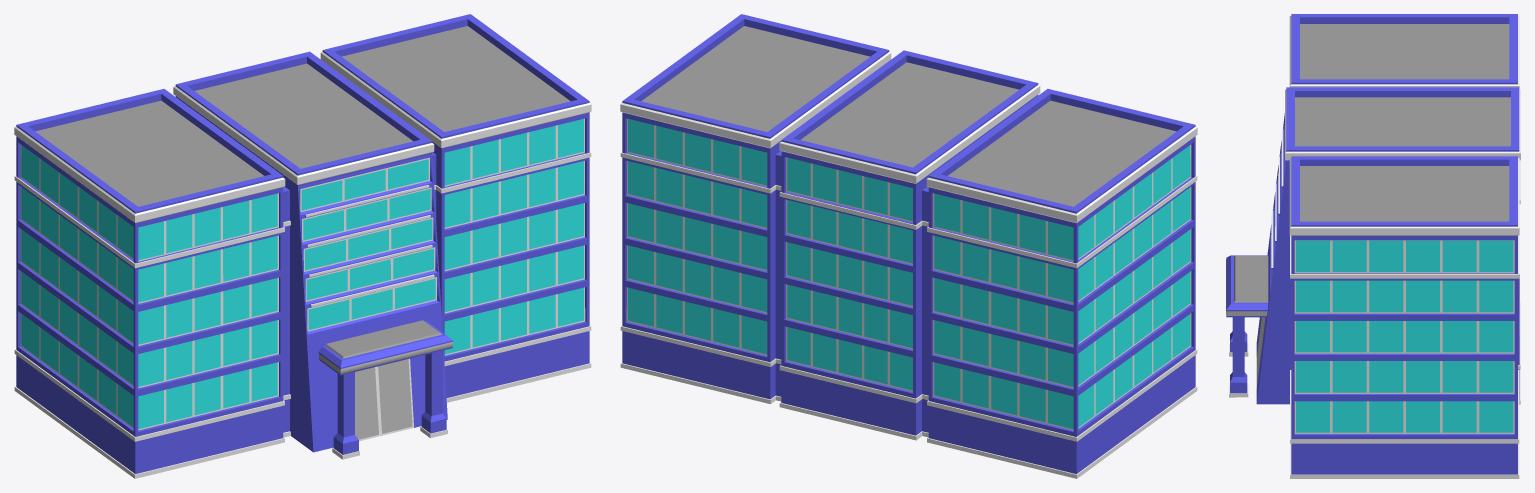
The model's file is SM_House_11_04.FBX.
The picture shows the model from 3 angles, left to right: view 1: azimuth 30°, elevation 25°; view 2: azimuth 150°, elevation 25°; view 3: azimuth 270°, elevation 25°; orthographic projection. The views are drawn at different scales.
Parts seen in each view (by area): view 1: SM_House_11_04; view 2: SM_House_11_04; view 3: SM_House_11_04.
Part boxes in pixels (x1,y1,x2,y2): SM_House_11_04: (14,14,591,478); SM_House_11_04: (620,14,1197,478); SM_House_11_04: (1226,14,1520,478).
Bounding box in the file's own units: 11.71 × 6.55 × 6.88.
1 material, 1 textured.
